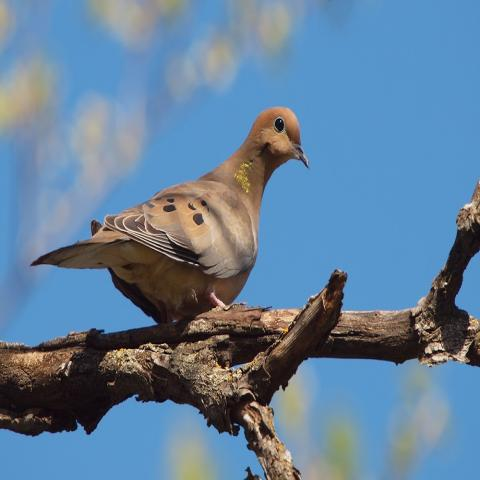bird: (29, 104, 311, 325)
